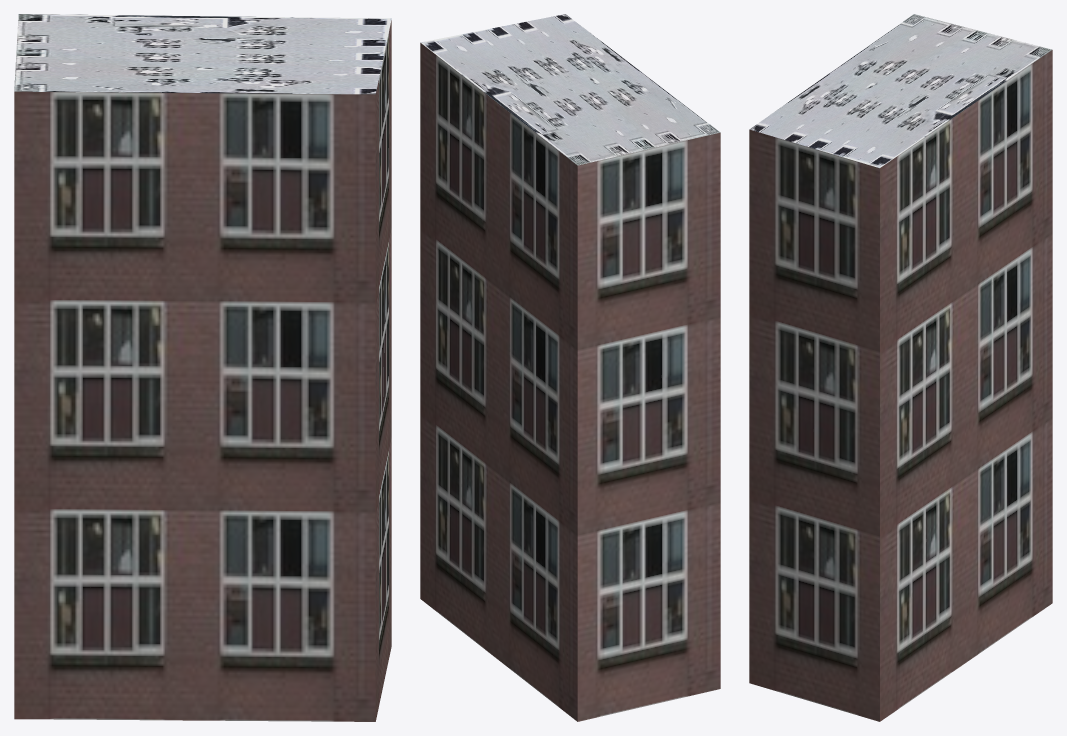
Rendered from ResTex__3276.fbx.
The picture shows the model from 3 angles, left to right: view 1: azimuth 30°, elevation 25°; view 2: azimuth 150°, elevation 25°; view 3: azimuth 270°, elevation 25°; orthographic projection. The views are drawn at different scales.
Visible parts, largest first — view 1: CityEngineMaterial_12_m, CityEngineMaterial_4_m; view 2: CityEngineMaterial_12_m, CityEngineMaterial_4_m; view 3: CityEngineMaterial_12_m, CityEngineMaterial_4_m.
Part boxes in pixels (x1,y1,x2,y2): CityEngineMaterial_12_m: (14,20,391,721); CityEngineMaterial_4_m: (14,14,391,94); CityEngineMaterial_12_m: (420,43,720,721); CityEngineMaterial_4_m: (420,14,720,165); CityEngineMaterial_12_m: (749,50,1052,721); CityEngineMaterial_4_m: (749,14,1051,168).
Bounding box in the file's own units: 5.38 × 9 × 4.47.
Materials: 2 (2 with a texture image).
